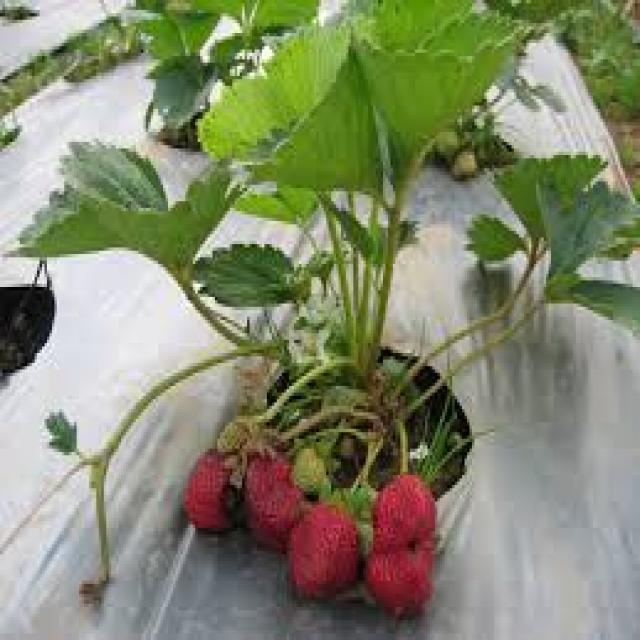Fruta sana: (374, 476, 446, 624), (288, 495, 362, 599), (247, 439, 302, 552), (190, 444, 244, 540)
